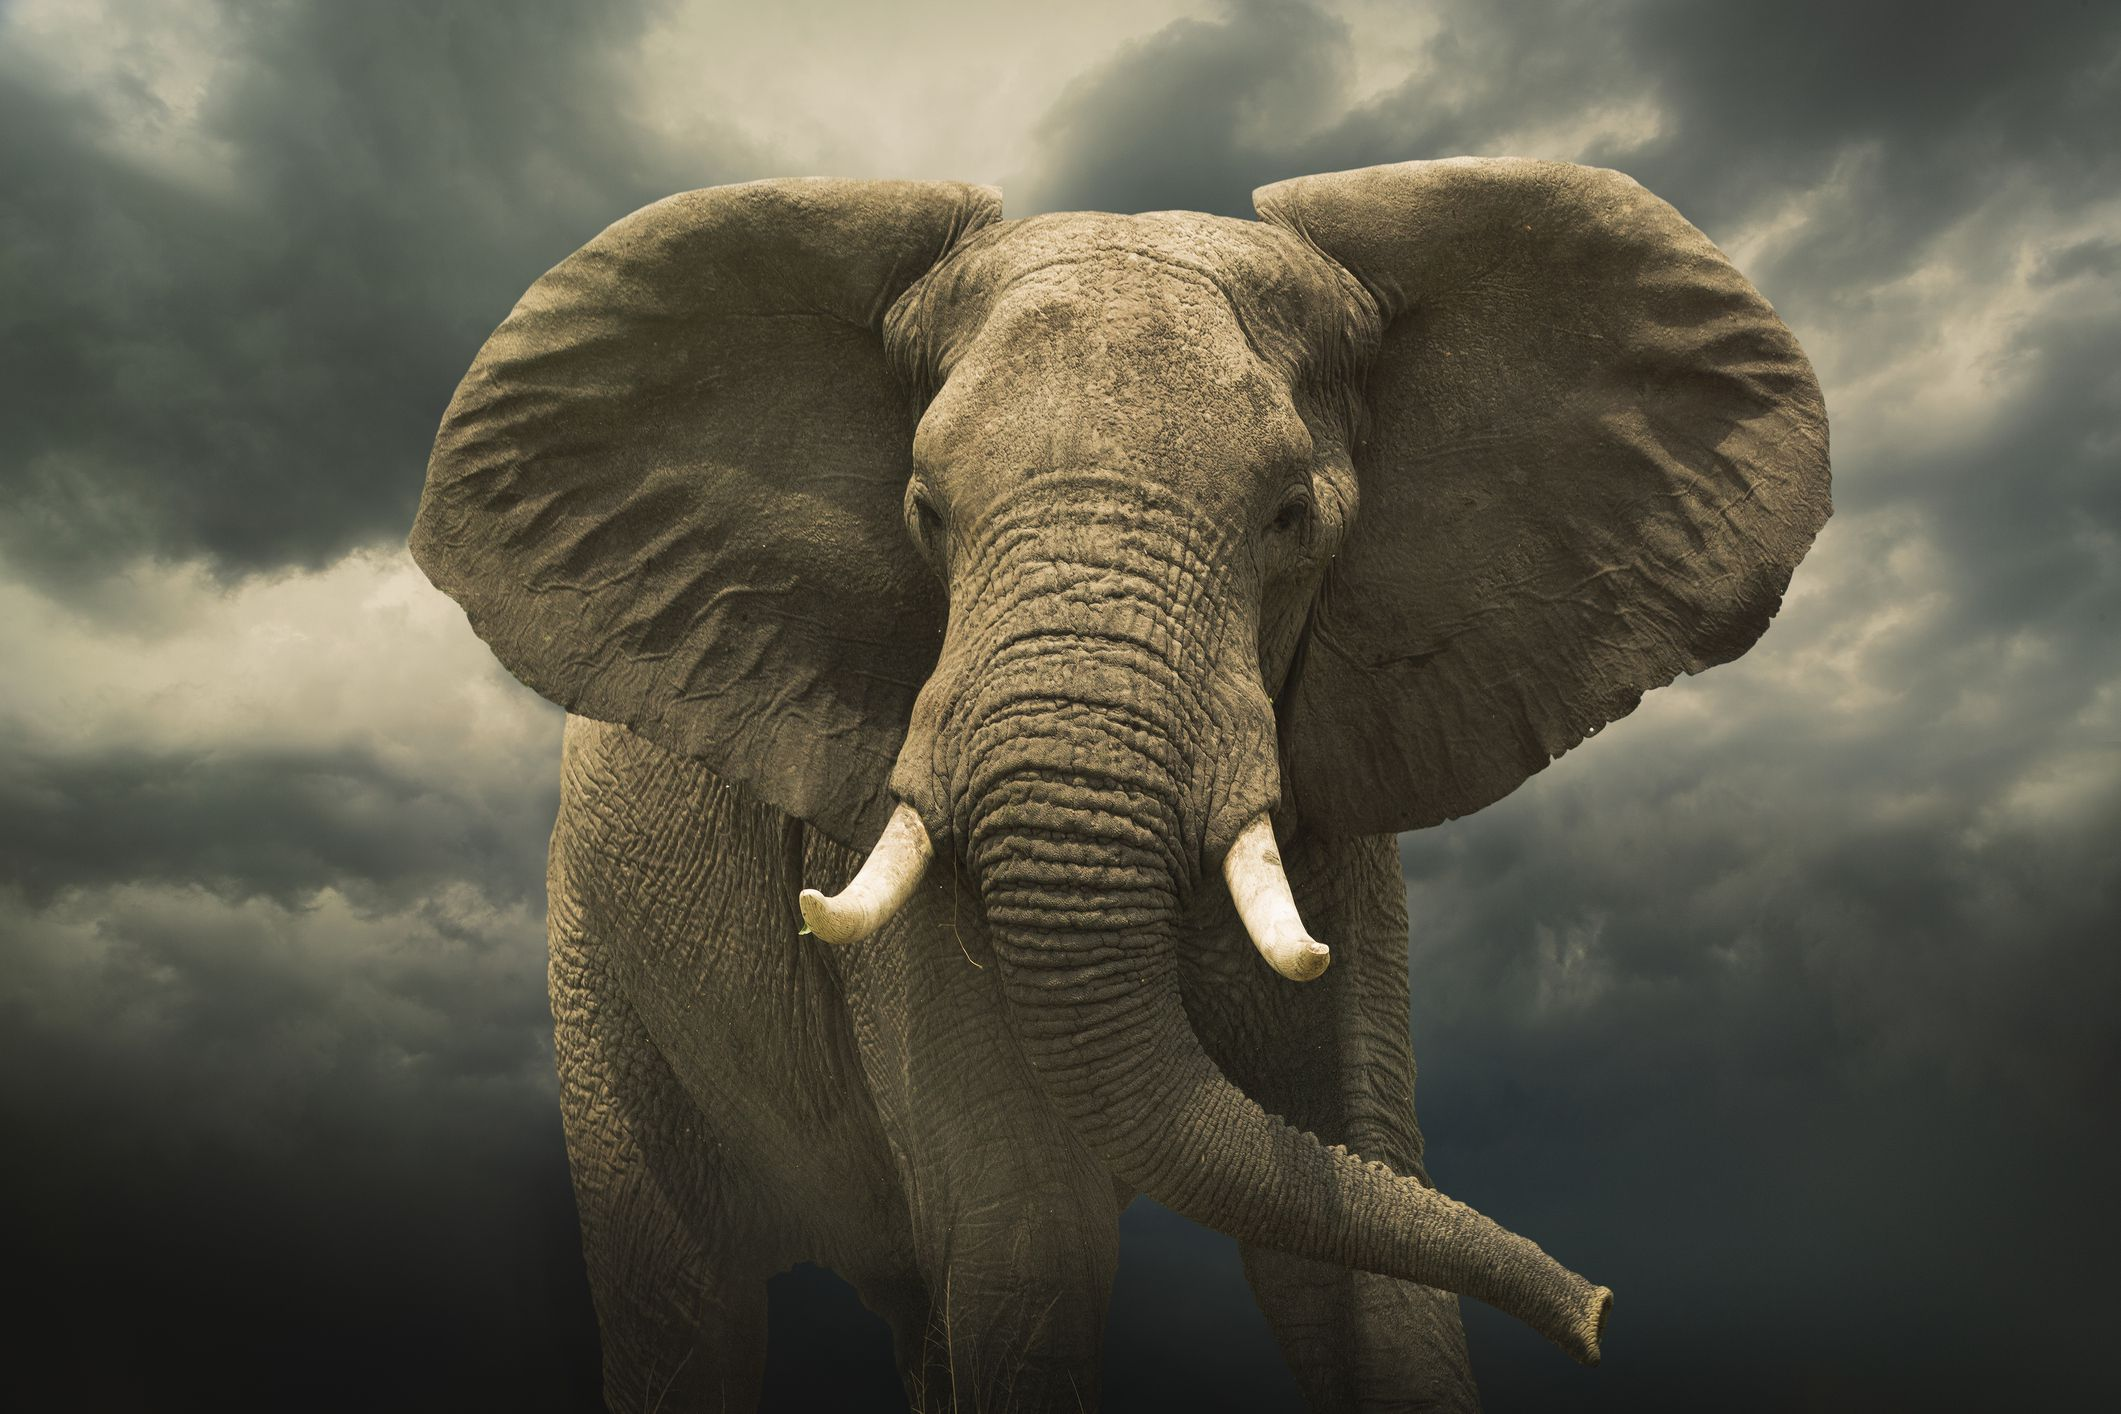elephant: (399, 144, 1846, 1414)
